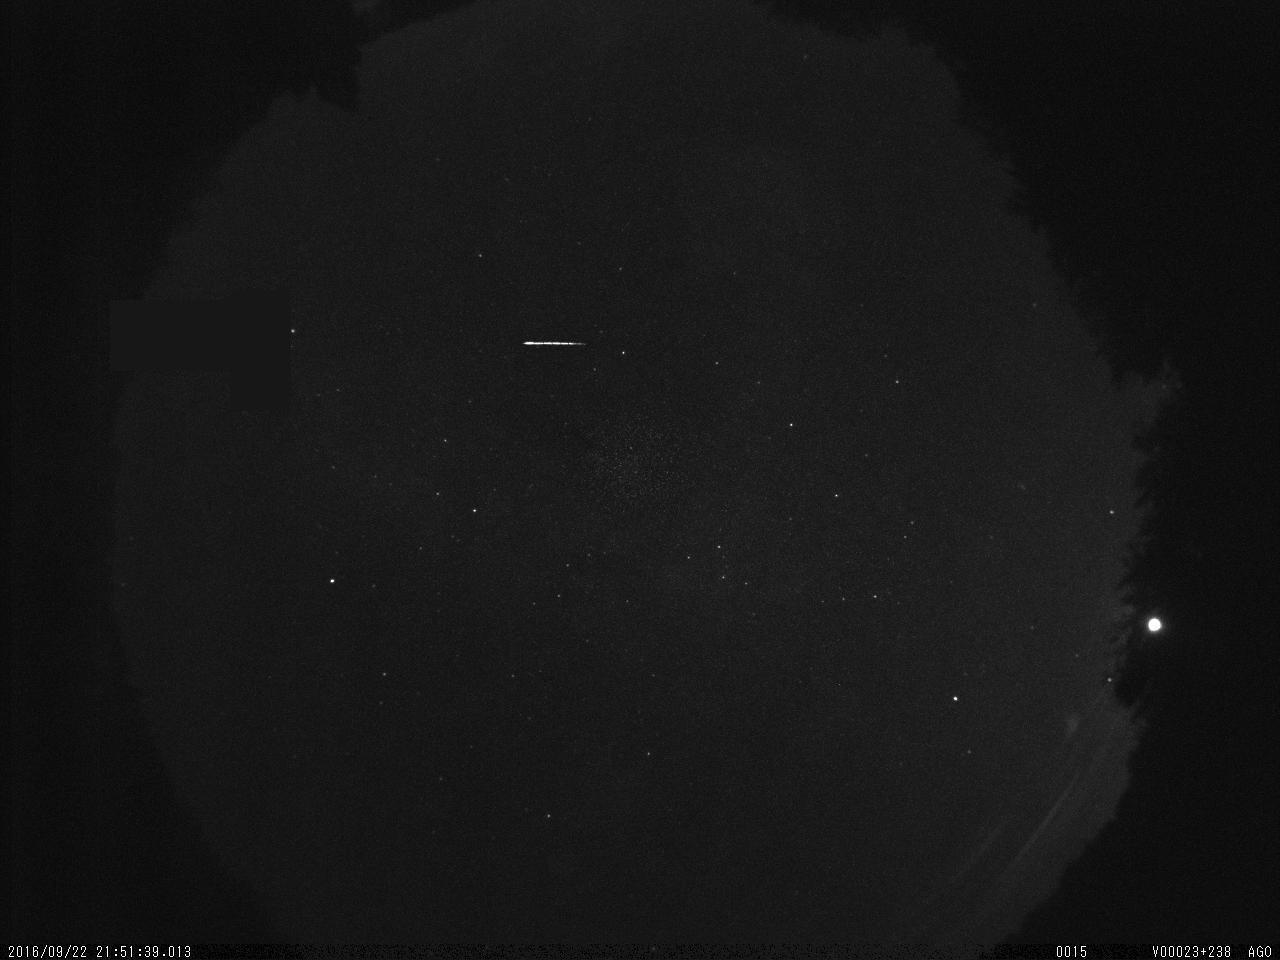meteor: (511, 322, 590, 362)
